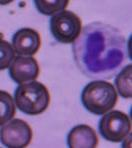N: (70, 20, 126, 80)
